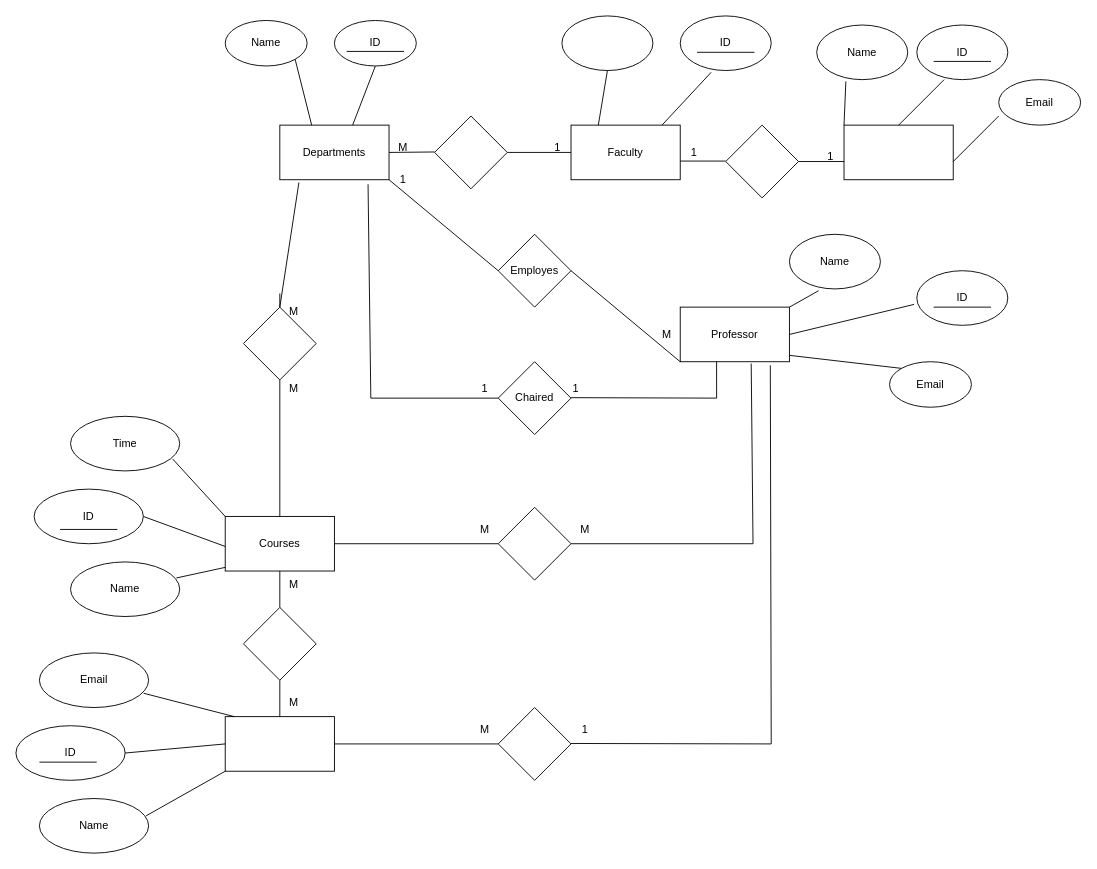
The diagram is 1097 pixels wide and 869 high, and some of its shapes have lost their labels. The shapes that lost their labels are listed below. From the top down, each one's box as (x1, y1, x2, y2) in pixels, then its label:
(561, 15, 653, 71): Type
(434, 115, 507, 189): Have
(725, 124, 799, 198): Has
(843, 124, 953, 180): Dean
(243, 306, 316, 380): offers
(497, 506, 571, 580): Teach
(243, 607, 316, 680): Enroll
(224, 716, 334, 771): Student
(497, 707, 571, 780): Advises
